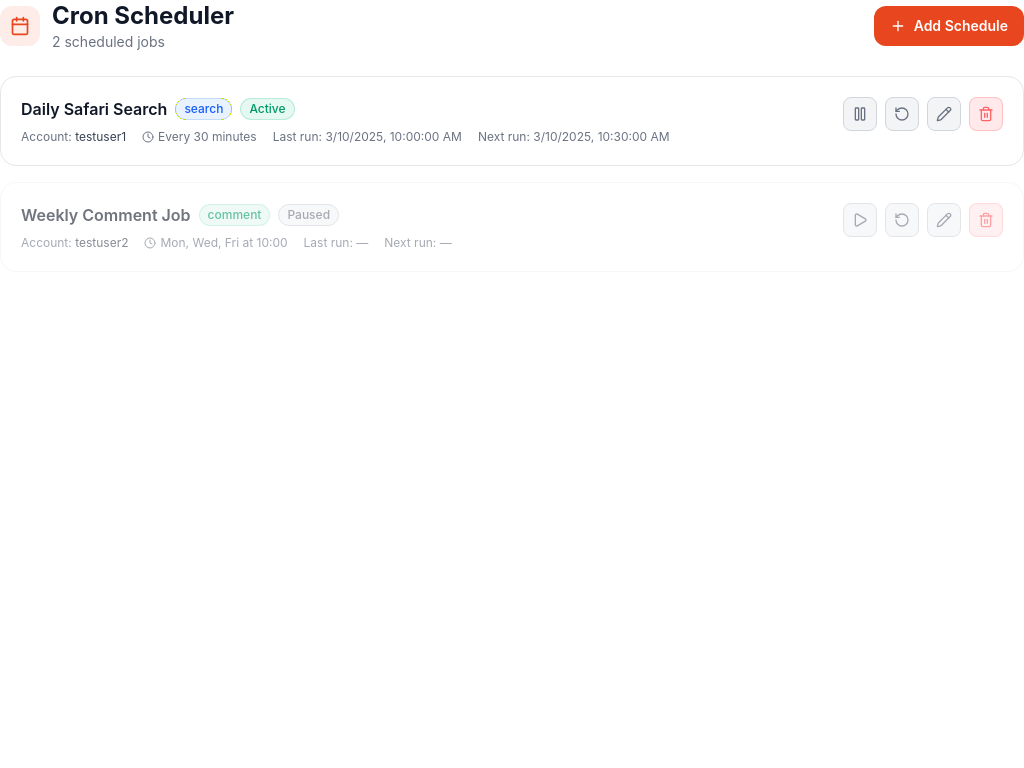
Test: CronScheduler › opens add modal when clicking Add Schedule
The image size is (1024, 768).
Click the button "Add Schedule": (949, 26) [874,6,1023,46]
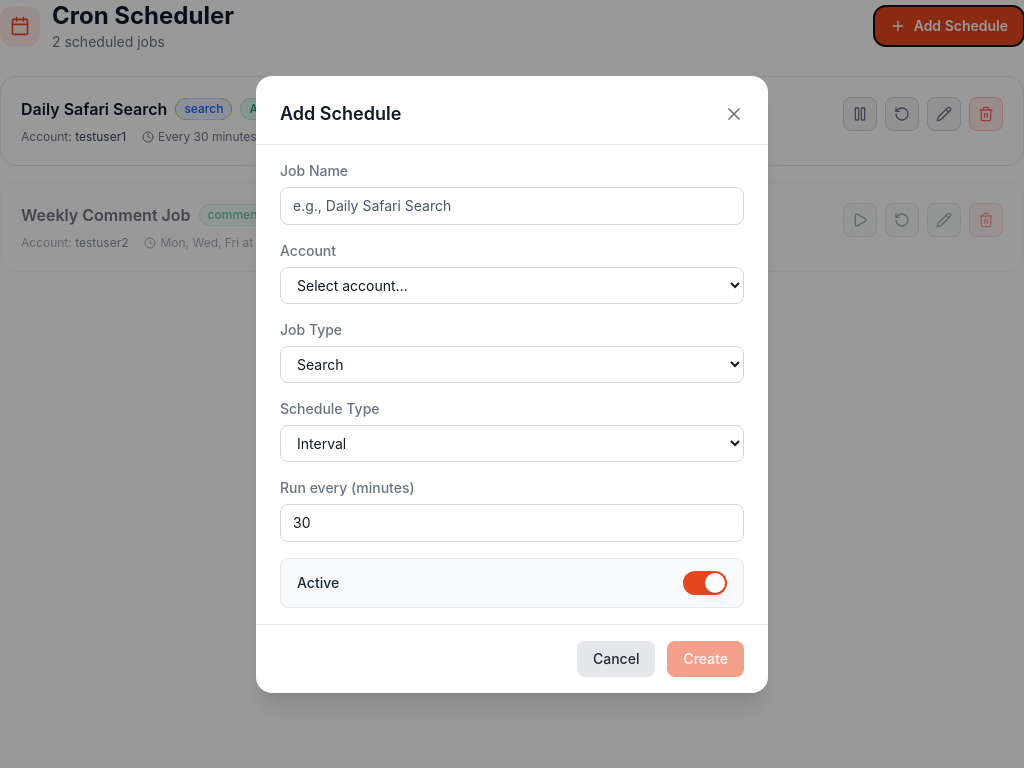
Result: the text "Job Name" is shown at [280,162,348,178]
Result: the text "Account" is shown at [280,242,336,258]
Result: the text "Job Type" is shown at [280,320,342,338]
